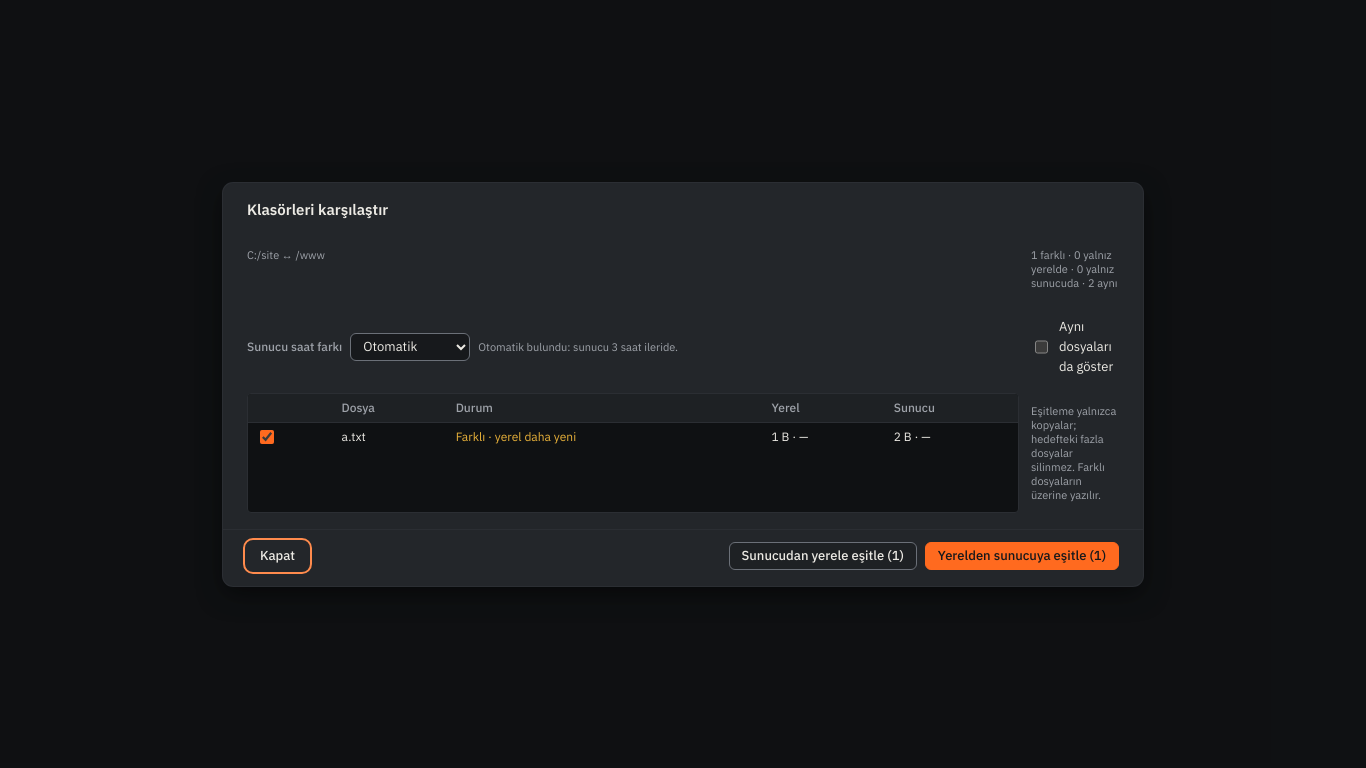
Scenario: CompareModal time offset › shows the detected offset and re-compares with a manual one
The image size is (1366, 768).
Expected: the text "Otomatik bulundu: sunucu 3 saat ileride." is shown, [478,340,678,354]
Select "−2 saat" in the dropdown labelled "Sunucu saat farkı" at (410, 346), box [350,332,470,360]
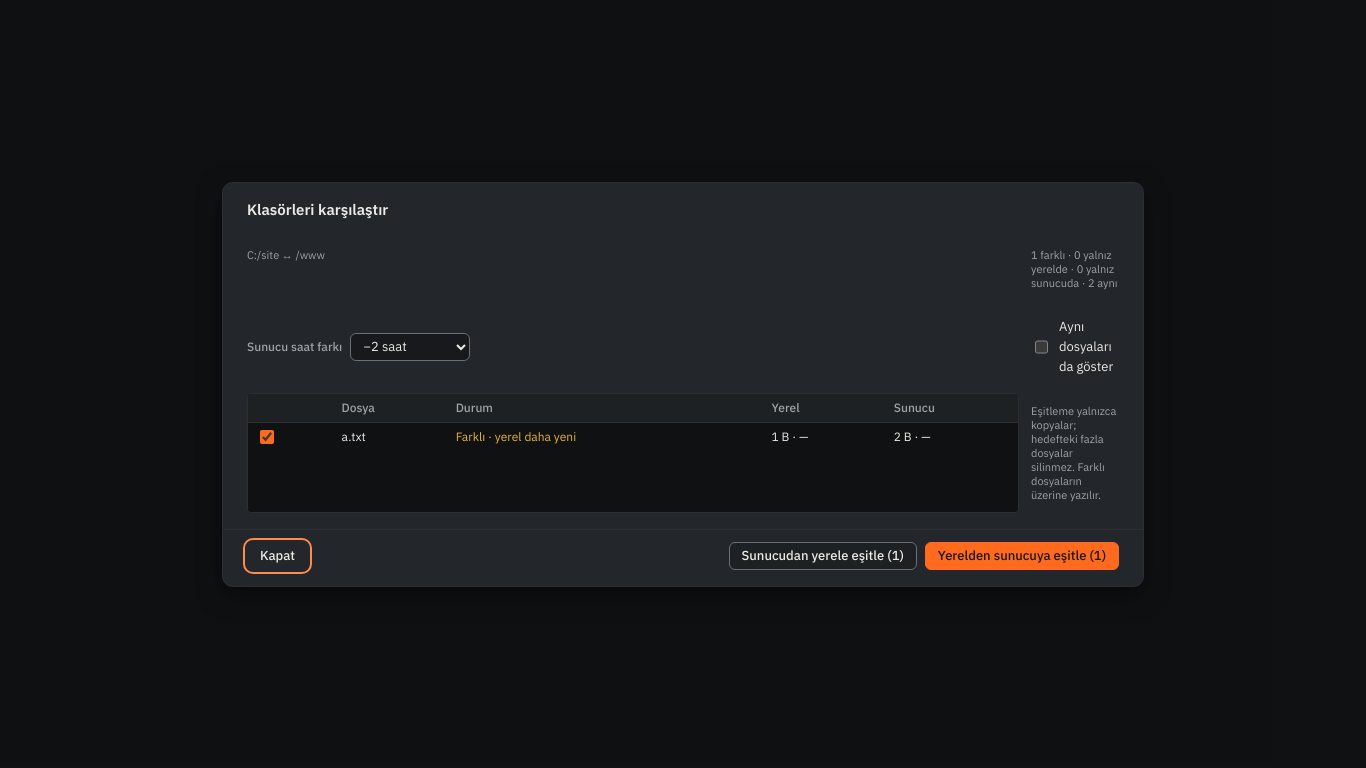
Result: the text "Otomatik bulundu" is gone
